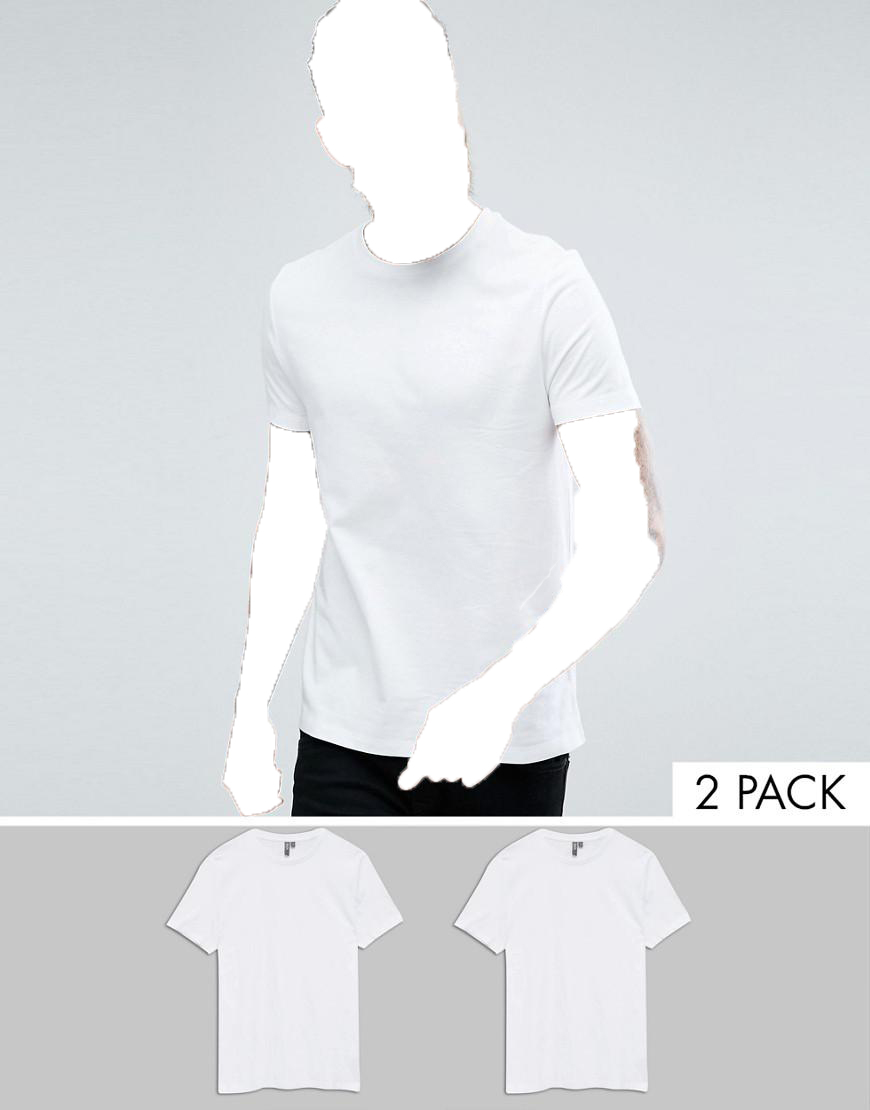teeshirt: (224, 217, 639, 769), (164, 829, 408, 1108), (447, 829, 690, 1101)
